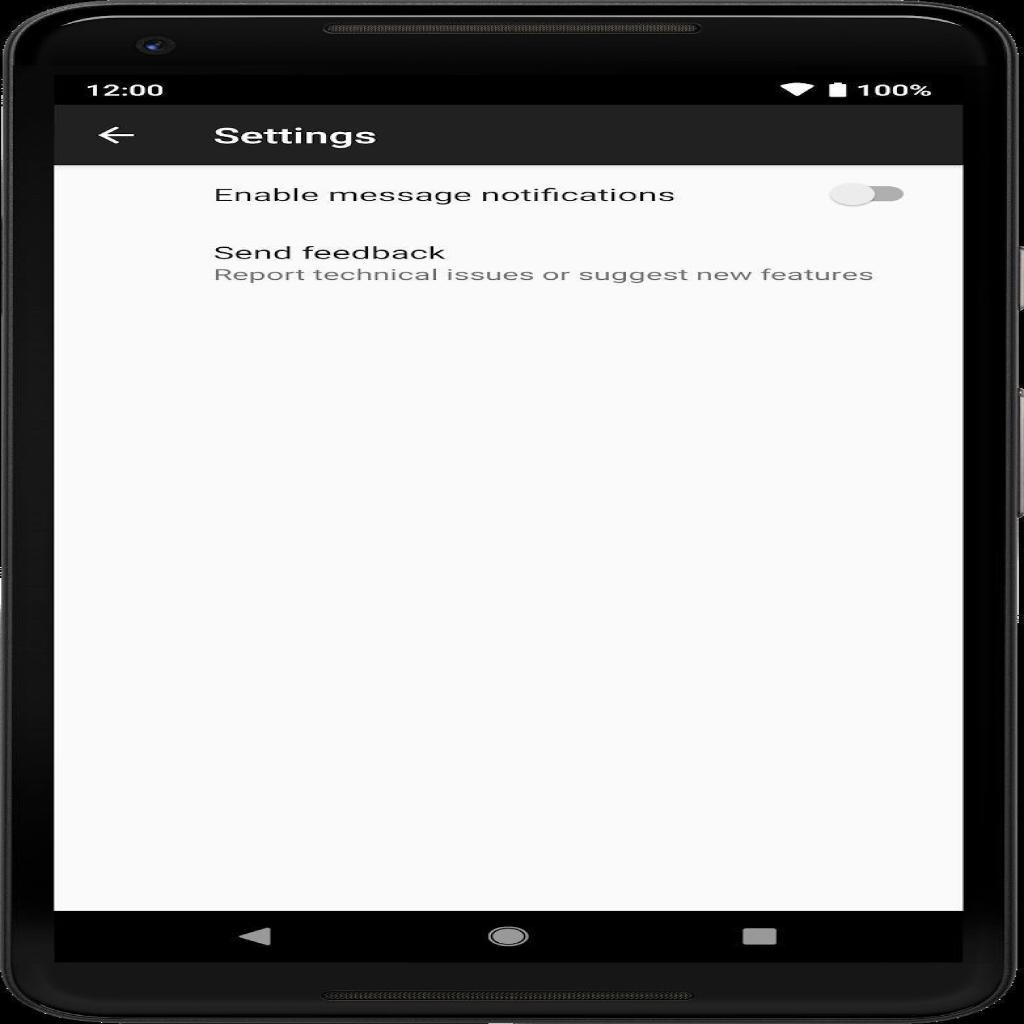icon: (97, 119, 145, 151)
label: (195, 178, 684, 210)
switch: (816, 179, 920, 213)
